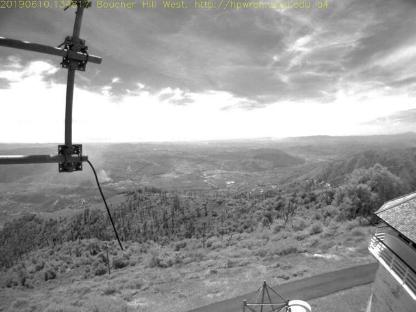smoke: (85, 145, 111, 185)
